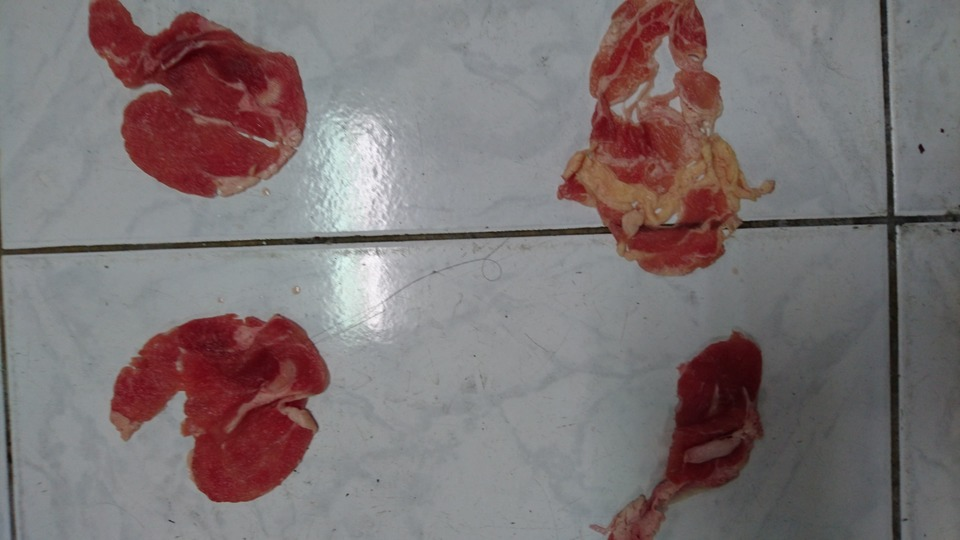restructured meat: (532, 3, 769, 277), (86, 305, 350, 508), (81, 8, 322, 208), (587, 301, 783, 540)
